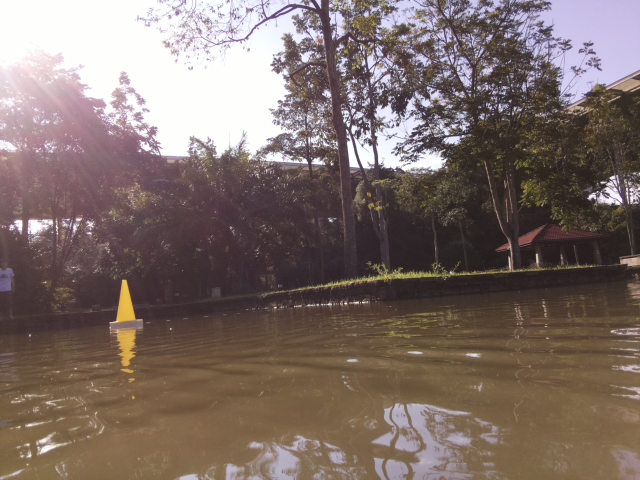checkpoint: (109, 278, 143, 331)
